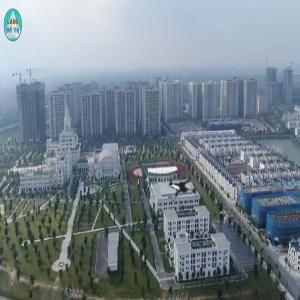drone: (151, 153, 218, 220)
